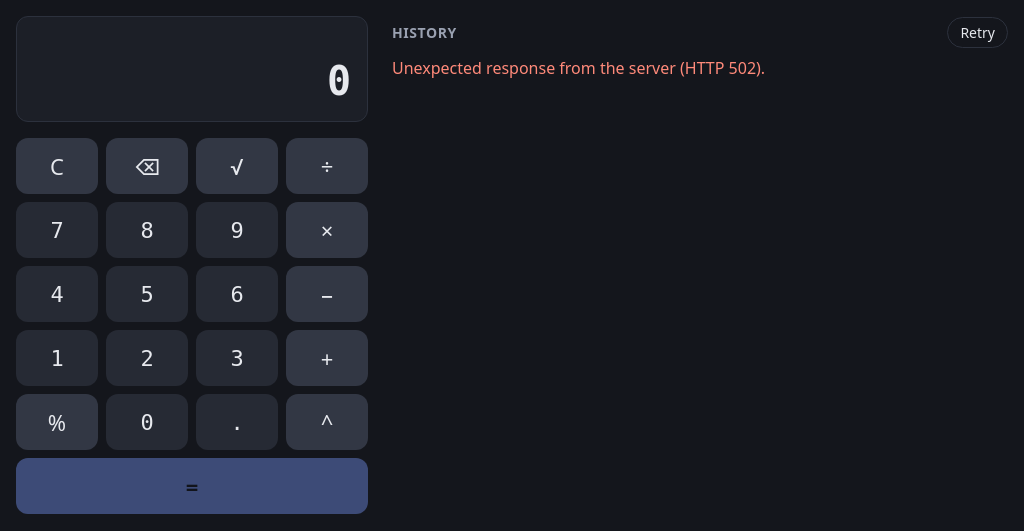
Test: Calculator › shows why the history failed to load and retries on request
The width and height of the screenshot is (1024, 531).
Expected: the text "Unexpected response from the server (HTTP 502)." is shown, [392,57,765,79]
Click the button "Retry" at (978, 32), box [947,16,1008,48]
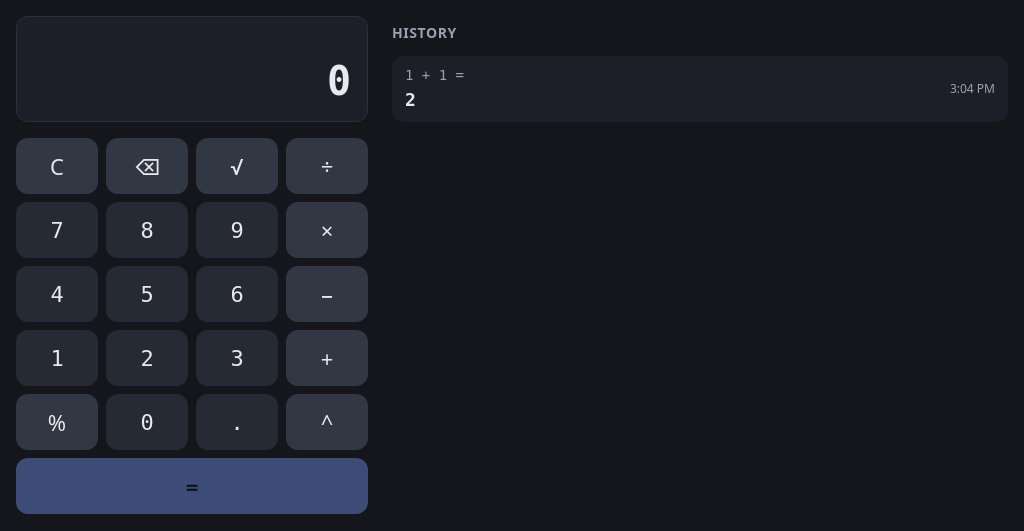
Result: the button with aria-label "Use 2, from 1 + 1" is shown at [392,56,1008,122]
Result: the button "Retry" is gone
